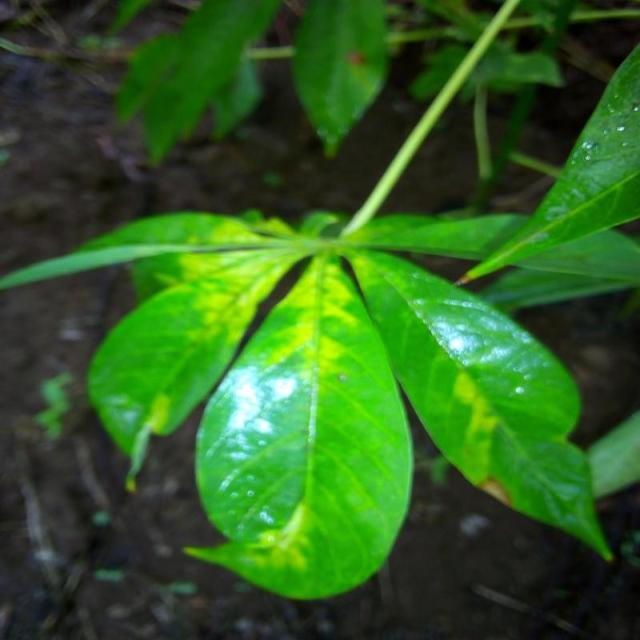cassava leaf: (344, 243, 614, 563), (182, 241, 414, 600), (454, 39, 638, 296)
